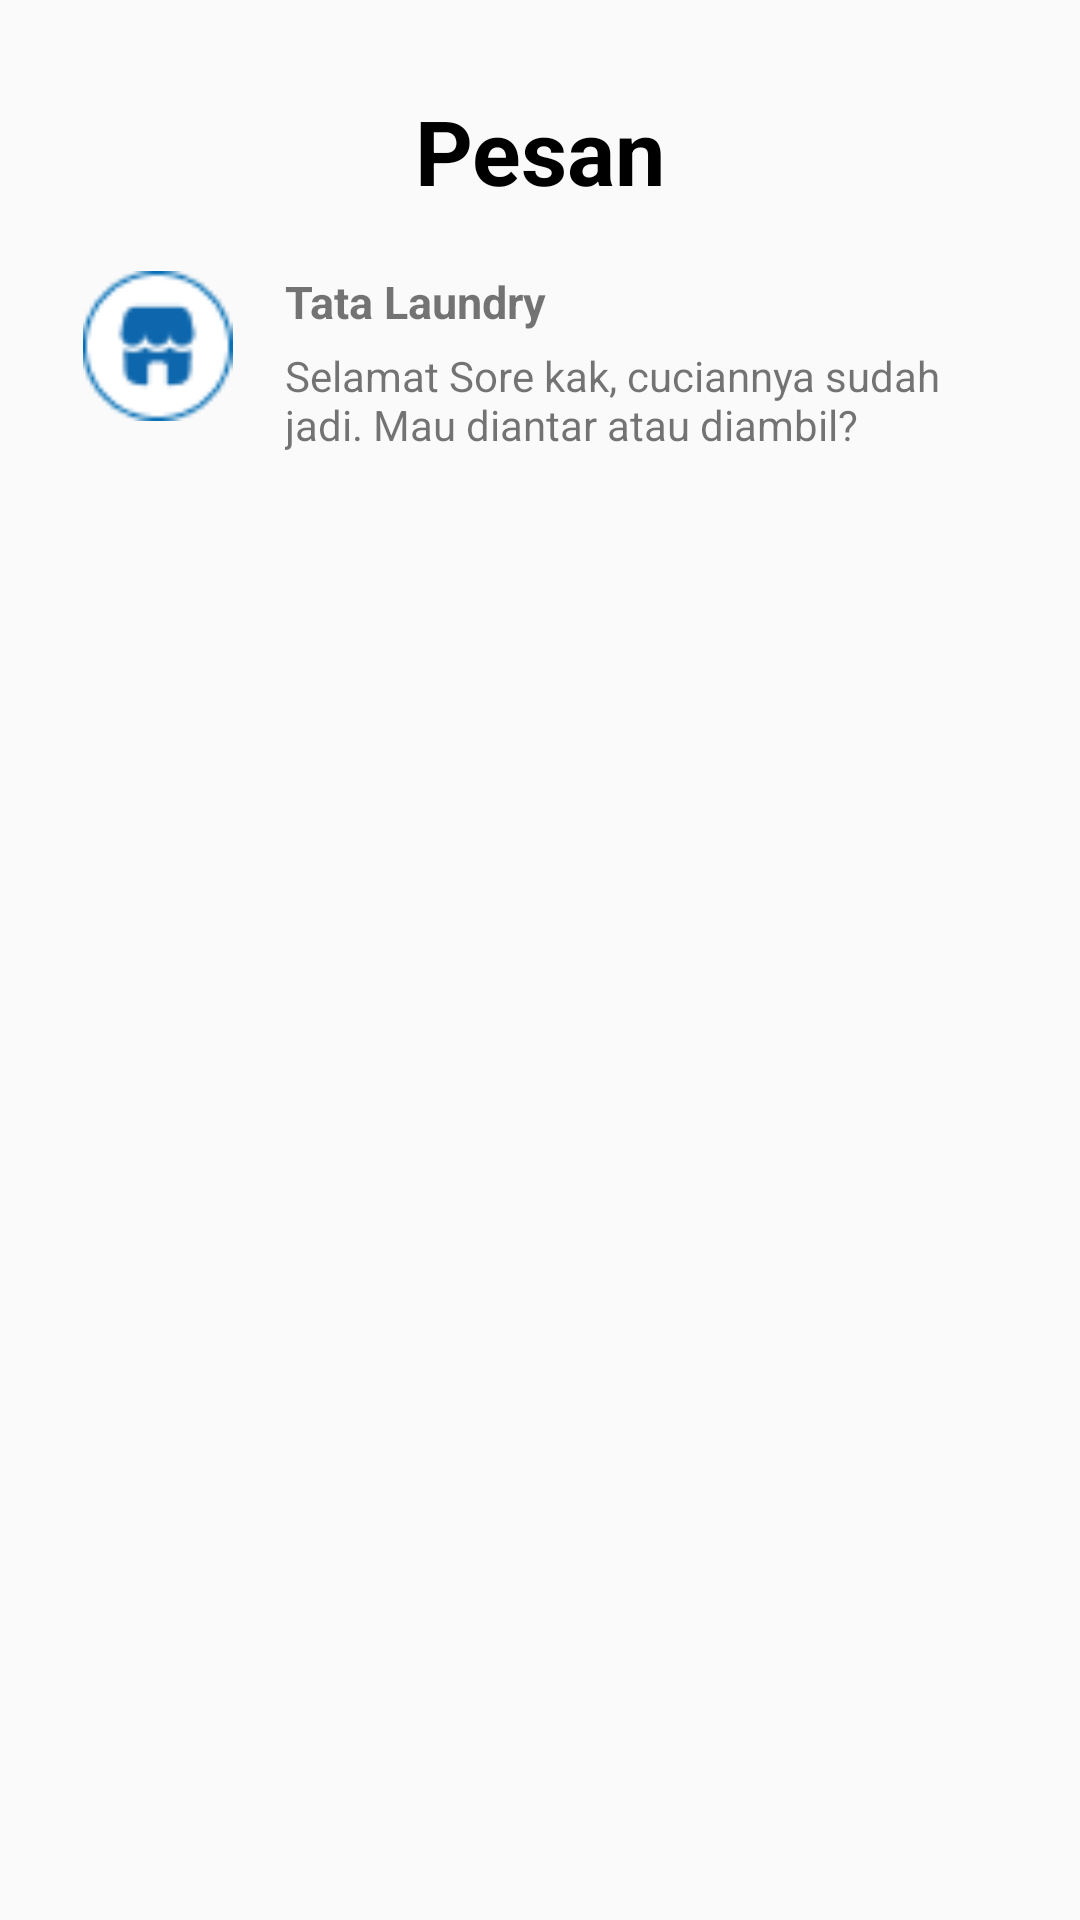

Screen size 1080*1920. Icon name, then its center in pixels as point (x, y):
toko: point (158, 346)
